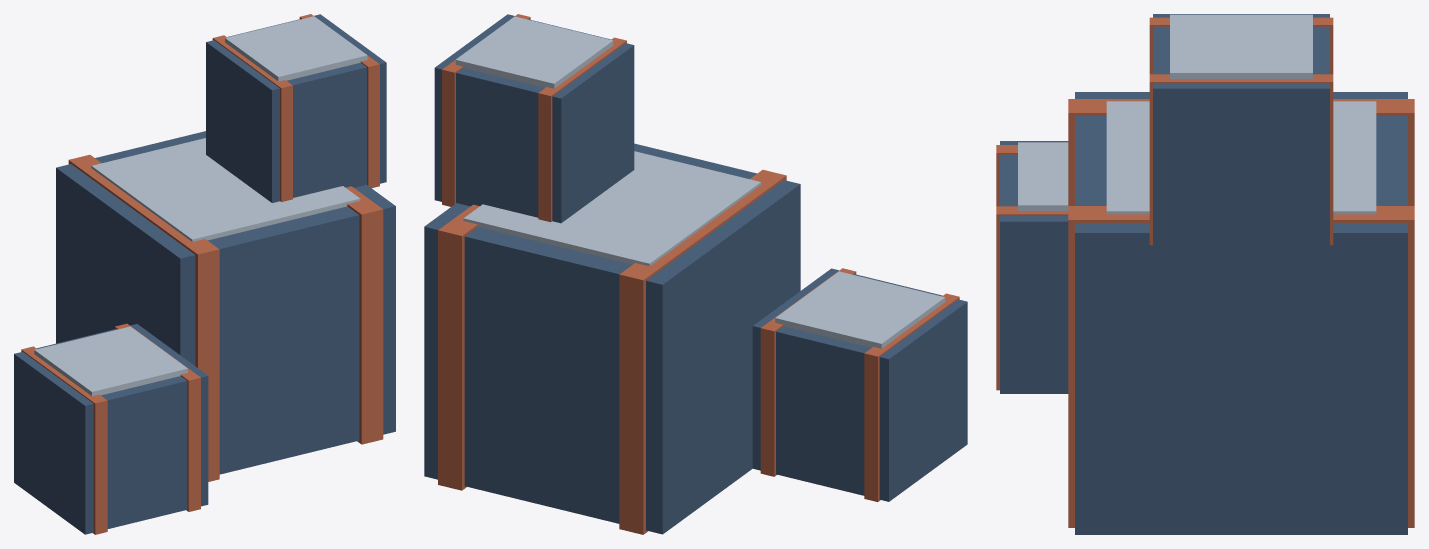
The model's file is expedition-crate.glb.
3 renders of one model, left to right at view 1: azimuth 30°, elevation 25°; view 2: azimuth 150°, elevation 25°; view 3: azimuth 270°, elevation 25°, orthographic. The views are drawn at different scales.
Parts seen in each view (by area): view 1: expedition-crate; view 2: expedition-crate; view 3: expedition-crate.
Part boxes in pixels (box(x1,y1,x2,y2)): expedition-crate: box(14, 14, 395, 534); expedition-crate: box(424, 14, 967, 534); expedition-crate: box(996, 14, 1414, 534).
Bounding box in the file's own units: 1.63 × 1.52 × 1.23.
